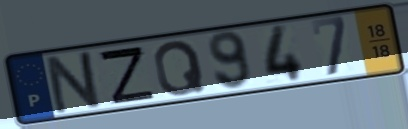4: (261, 22, 307, 85)
7: (308, 14, 349, 80)
9: (206, 29, 255, 93)
N: (44, 48, 107, 117)
Q: (151, 38, 209, 99)
Z: (95, 45, 158, 106)
